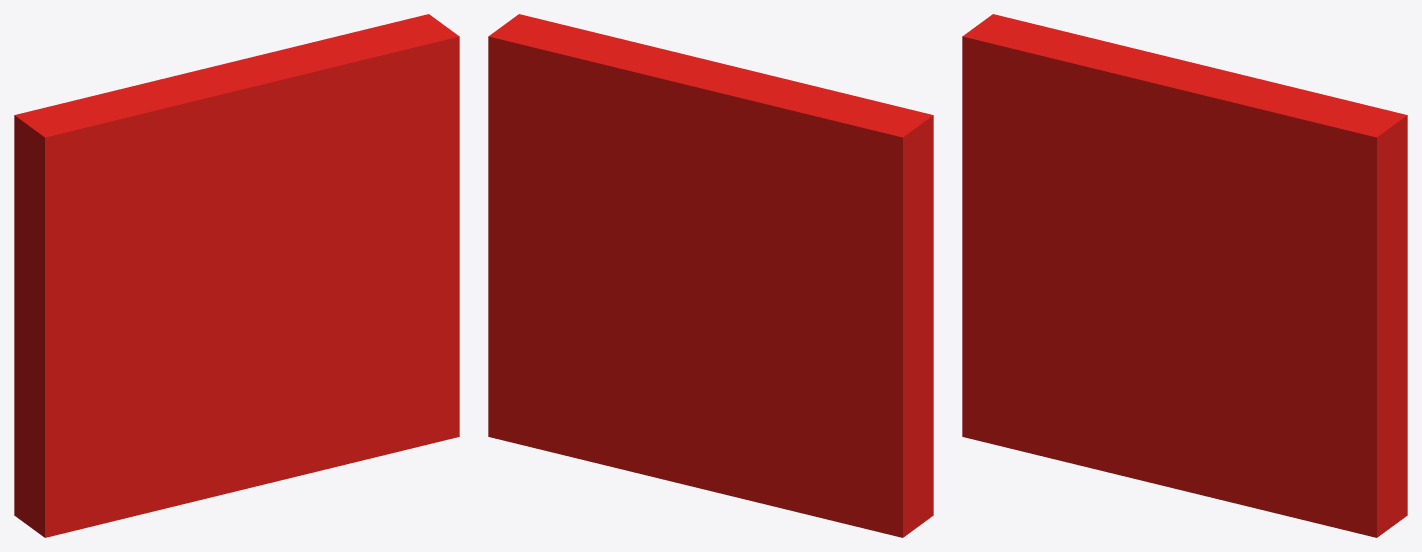
The picture shows the model from 3 angles, left to right: view 1: azimuth 30°, elevation 25°; view 2: azimuth 150°, elevation 25°; view 3: azimuth 330°, elevation 25°; orthographic projection.
Visible parts, largest first — view 1: red; view 2: red; view 3: red.
Part boxes in pixels (x1,y1,x2,y2): red: (14,14,459,537); red: (488,14,933,537); red: (962,14,1407,537).
Size of the model in its own units: 0.78 by 0.72 by 0.1.
Materials: 1 (1 with a texture image).
